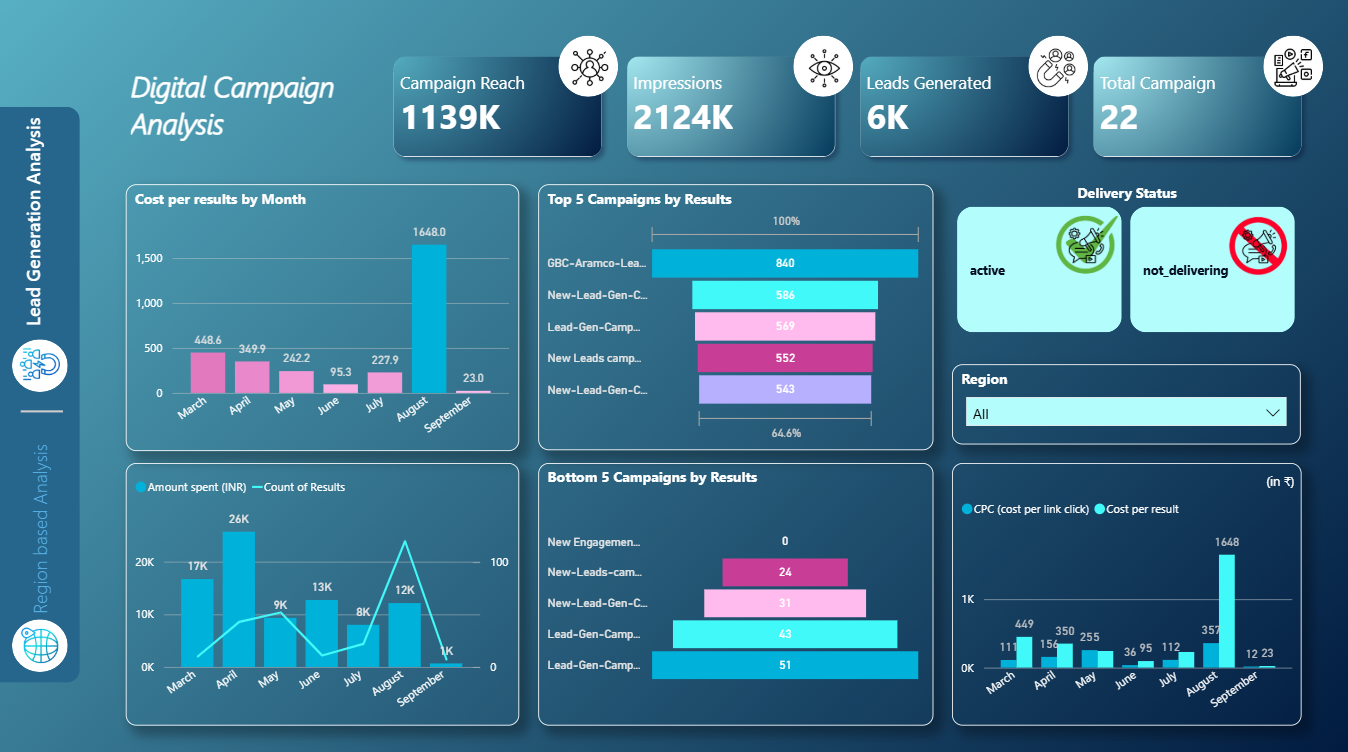

This screenshot's page, from the dashboard's own definition file:
{"tool":"powerbi","page":{"name":"Lead Generation Analysis","canvas":[1280,720],"ordinal":0},"visuals":[{"type":"cardVisual","title":"Impressions","fields":{"Data":["Sum(Fact_Table.Reach)","Sum(Fact_Table.Impressions)","Sum(Fact_Table.Results)","CountNonNull(dim_Campaign (2).Campaign ID)"]},"box":[358.4,33.3,897.7,139.2],"z":0},{"type":"columnChart","title":"Cost per results by Month ","fields":{"Y":["Sum(Fact_Table.Cost per result)"],"Category":["dim_Month.Month"]},"box":[121.7,176.3,372.5,252.9],"z":1000},{"type":"shape","box":[0,102.9,78.6,545.7],"z":2000},{"type":"lineStackedColumnComboChart","title":"Cost per results by Month ","fields":{"Category":["dim_Month.Month"],"Y":["Sum(Fact_Table.Amount spent (INR))"],"Y2":["CountNonNull(Fact_Table.Results)"]},"box":[121.7,440.7,372.5,248.7],"z":3000},{"type":"funnel","title":"Top 5 Campaigns by Results","fields":{"Category":["dim_Campaign (2).Campaign name"],"Y":["Sum(Fact_Table.Results)"]},"box":[512.8,176.5,374.2,252.3],"z":4000},{"type":"textbox","box":[122,60.4,236.9,84.1],"z":5000},{"type":"shape","box":[531.4,35.3,56.8,58.1],"z":6000},{"type":"image","box":[538.7,41.1,45.7,48],"z":7000},{"type":"shape","box":[754,35.3,56.8,58.1],"z":8000},{"type":"shape","box":[976.6,35.3,56.8,58.1],"z":9000},{"type":"shape","box":[1199.3,35.3,56.8,58.1],"z":10000},{"type":"image","box":[757.8,43.4,52.7,45.7],"z":11000},{"type":"image","box":[973.5,42.7,59.5,47.3],"z":12000},{"type":"image","box":[1204.7,42.7,47.3,47.3],"z":13000},{"type":"lineClusteredColumnComboChart","fields":{"Category":["dim_Month.Month"],"Y":["Sum(Fact_Table.CPC (cost per link click))","Sum(Fact_Table.Cost per result)"]},"box":[904.5,440.7,331.6,248.7],"z":14000},{"type":"pageNavigator","box":[15.7,80,50,560],"z":15000},{"type":"shape","box":[22.9,370,40,44.3],"z":16000},{"type":"shape","box":[14.3,588.6,52.9,50],"z":17000},{"type":"image","box":[18.2,590,45.7,47.1],"z":18000},{"type":"shape","box":[14.3,322.9,52.9,50],"z":19000},{"type":"image","box":[14.3,320,52.9,54.3],"z":20000},{"type":"funnel","title":"Bottom 5 Campaigns by Results","fields":{"Category":["dim_Campaign (2).Campaign name"],"Y":["Sum(Fact_Table.Results)"]},"box":[512.8,440.6,374.2,248.7],"z":21000},{"type":"advancedSlicerVisual","title":"Delivery Status","fields":{"Values":["dim_Delivery_Status.Delivery status"]},"box":[904.3,175.7,331.4,147.1],"z":22000},{"type":"image","box":[996.9,190,71.5,86.9],"z":23000},{"type":"image","box":[1160.8,167.7,68.5,133.1],"z":24000},{"type":"slicer","title":"Region","fields":{"Values":["dim_Region (2).Region"]},"box":[904.8,347,330.4,75.8],"z":25000}]}

Visuals, with their boxes in screenshot pixels (x1, y1, x2, y2), scaled from the page's 1280x720 canvas onto the 1348x752 screenshot:
"Impressions" cardVisual: left=377, top=35, right=1323, bottom=180
"Cost per results by Month " columnChart: left=128, top=184, right=520, bottom=448
shape: left=0, top=107, right=83, bottom=677
"Cost per results by Month " lineStackedColumnComboChart: left=128, top=460, right=520, bottom=720
"Top 5 Campaigns by Results" funnel: left=540, top=184, right=934, bottom=448
textbox: left=128, top=63, right=378, bottom=151
shape: left=560, top=37, right=619, bottom=98
image: left=567, top=43, right=615, bottom=93
shape: left=794, top=37, right=854, bottom=98
shape: left=1028, top=37, right=1088, bottom=98
shape: left=1263, top=37, right=1323, bottom=98
image: left=798, top=45, right=854, bottom=93
image: left=1025, top=45, right=1088, bottom=94
image: left=1269, top=45, right=1319, bottom=94
lineClusteredColumnComboChart - dim_Month.Month x Sum(Fact_Table.CPC (cost per link click)): left=953, top=460, right=1302, bottom=720
pageNavigator: left=17, top=84, right=69, bottom=668
shape: left=24, top=386, right=66, bottom=433
shape: left=15, top=615, right=71, bottom=667
image: left=19, top=616, right=67, bottom=665
shape: left=15, top=337, right=71, bottom=389
image: left=15, top=334, right=71, bottom=391
"Bottom 5 Campaigns by Results" funnel: left=540, top=460, right=934, bottom=720
"Delivery Status" advancedSlicerVisual: left=952, top=184, right=1301, bottom=337
image: left=1050, top=198, right=1125, bottom=289
image: left=1222, top=175, right=1295, bottom=314
"Region" slicer: left=953, top=362, right=1301, bottom=442
